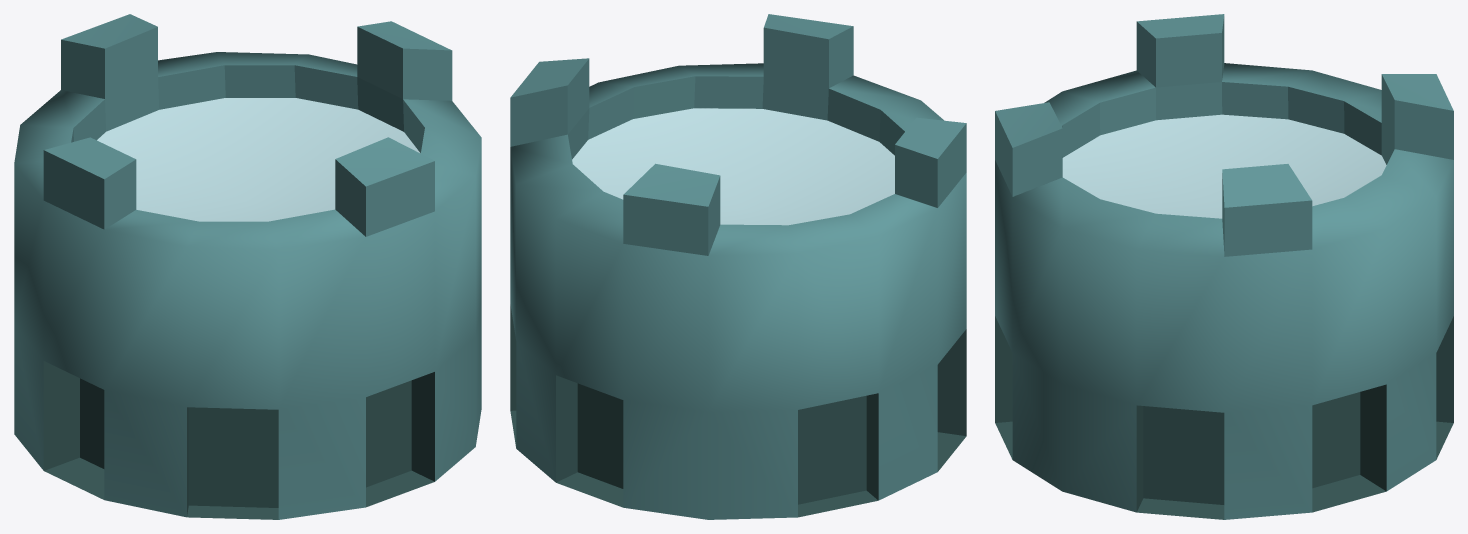
The model's file is Tower SmallT.fbx.
The picture shows the model from 3 angles, left to right: view 1: azimuth 30°, elevation 25°; view 2: azimuth 150°, elevation 25°; view 3: azimuth 270°, elevation 25°; orthographic projection. The views are drawn at different scales.
Visible parts, largest first — view 1: Tower_Small; view 2: Tower_Small; view 3: Tower_Small.
Boxes of the visible parts, x1,y1,x2,y2 form: Tower_Small: (14,14,481,519); Tower_Small: (510,14,966,519); Tower_Small: (995,14,1453,519).
Bounding box in the file's own units: 64 × 50.3 × 64.
